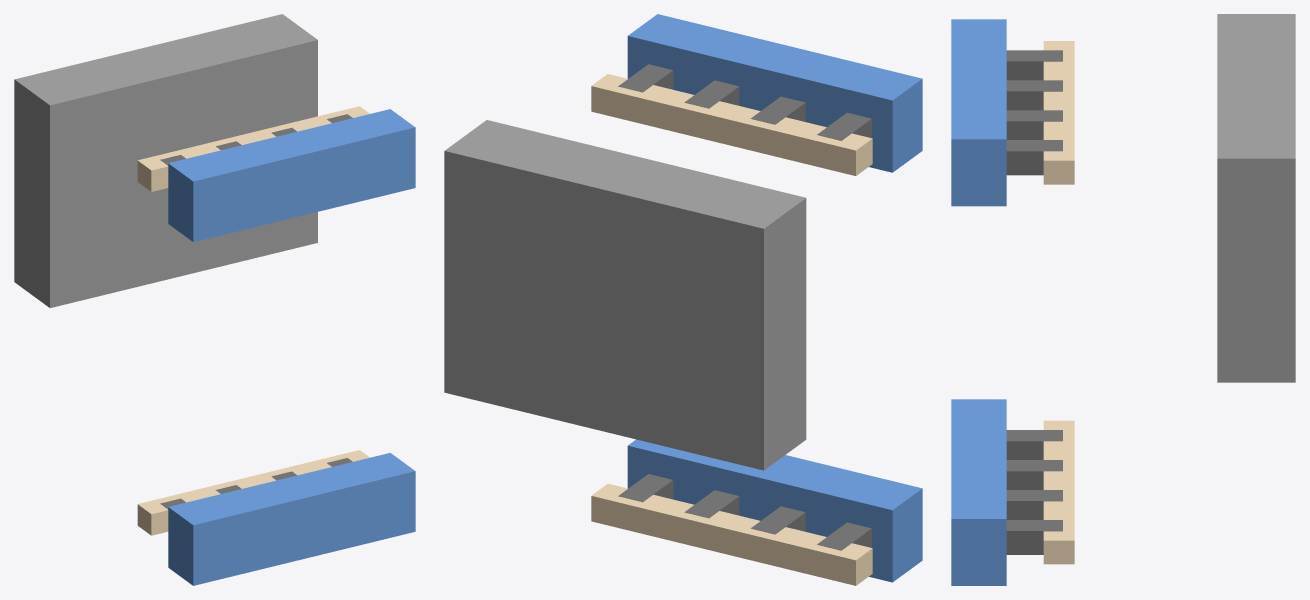
The model's file is sky130_fd_sc_hd__fill_4.gds.gltf.
3 views of the same model, side by side, from view 1: azimuth 30°, elevation 25°; view 2: azimuth 150°, elevation 25°; view 3: azimuth 270°, elevation 25° (orthographic). The views are drawn at different scales.
Parts seen in each view (by area): view 1: sky130_fd_sc_hd__fill_4_nwell, sky130_fd_sc_hd__fill_4_met1, sky130_fd_sc_hd__fill_4_li1, sky130_fd_sc_hd__fill_4_mcon; view 2: sky130_fd_sc_hd__fill_4_nwell, sky130_fd_sc_hd__fill_4_met1, sky130_fd_sc_hd__fill_4_li1, sky130_fd_sc_hd__fill_4_mcon; view 3: sky130_fd_sc_hd__fill_4_nwell, sky130_fd_sc_hd__fill_4_met1, sky130_fd_sc_hd__fill_4_mcon, sky130_fd_sc_hd__fill_4_li1.
Part boxes in pixels (x1,y1,x2,y2): sky130_fd_sc_hd__fill_4_nwell: [14, 14, 317, 307]; sky130_fd_sc_hd__fill_4_met1: [168, 109, 415, 585]; sky130_fd_sc_hd__fill_4_li1: [137, 106, 369, 535]; sky130_fd_sc_hd__fill_4_mcon: [160, 114, 352, 509]; sky130_fd_sc_hd__fill_4_nwell: [444, 120, 806, 470]; sky130_fd_sc_hd__fill_4_met1: [627, 14, 922, 582]; sky130_fd_sc_hd__fill_4_li1: [591, 74, 872, 585]; sky130_fd_sc_hd__fill_4_mcon: [618, 64, 871, 550]; sky130_fd_sc_hd__fill_4_nwell: [1217, 14, 1295, 382]; sky130_fd_sc_hd__fill_4_met1: [951, 19, 1006, 585]; sky130_fd_sc_hd__fill_4_mcon: [1006, 50, 1062, 554]; sky130_fd_sc_hd__fill_4_li1: [1043, 41, 1074, 564].
Size of the model in its own units: 2.22 by 3.2 by 2.24.
